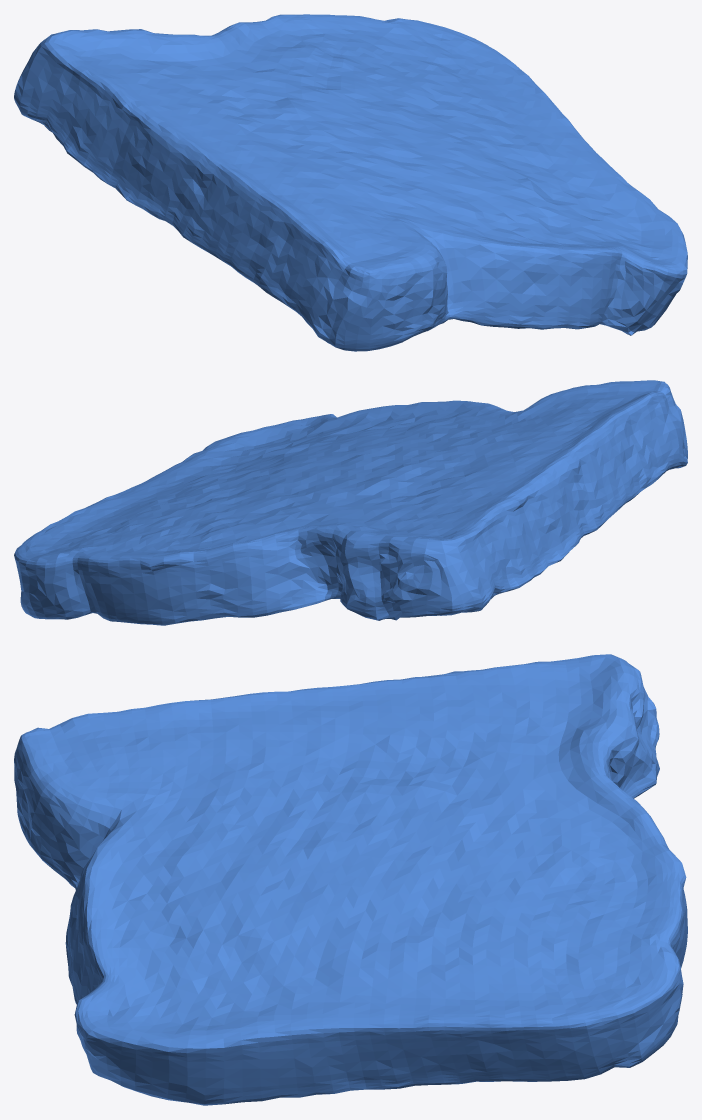
Rendered from uploads_files_2384335_pan.fbx.
3 renders of one model, top to bottom at view 1: azimuth 30°, elevation 25°; view 2: azimuth 150°, elevation 25°; view 3: azimuth 270°, elevation 25°, orthographic. The views are drawn at different scales.
Parts seen in each view (by area): view 1: Model; view 2: Model; view 3: Model.
Part boxes in pixels (x1,y1,x2,y2): Model: [14, 14, 687, 351]; Model: [14, 380, 687, 625]; Model: [14, 654, 687, 1105].
Bounding box in the file's own units: 0.1911 × 0.2129 × 0.0797.
